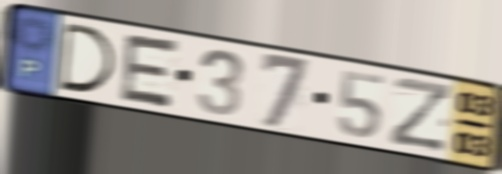3: (196, 47, 246, 117)
5: (335, 68, 387, 140)
7: (258, 49, 312, 132)
D: (58, 19, 120, 96)
E: (116, 31, 183, 112)
Z: (386, 73, 455, 154)
